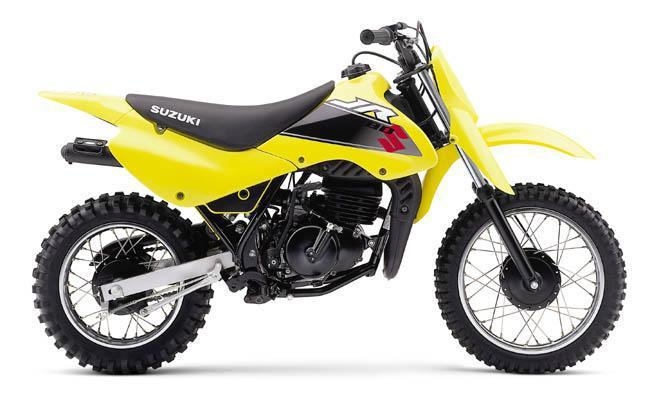motorcycle: (19, 3, 642, 392)
